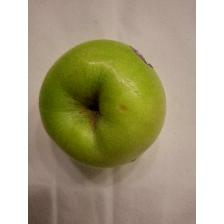Apfel: (38, 37, 168, 171)
